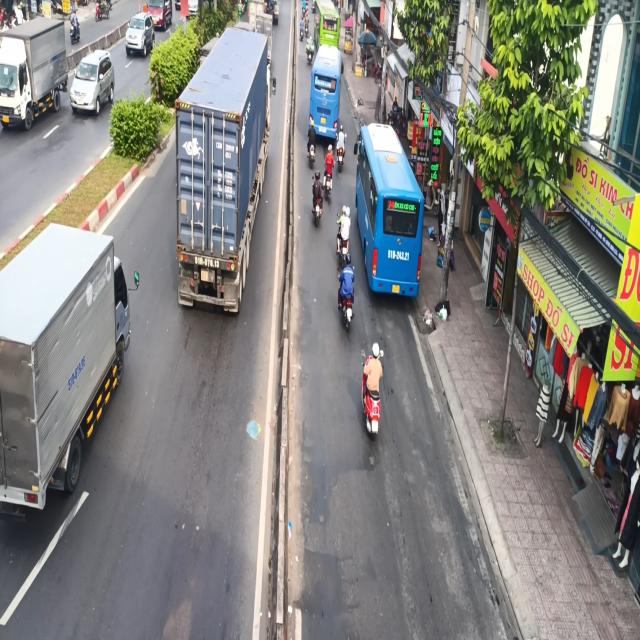bus: (356, 116, 426, 304), (306, 45, 345, 143)
motorbike: (360, 344, 389, 448), (311, 172, 326, 230)
truck: (0, 224, 141, 527), (167, 17, 272, 317)
